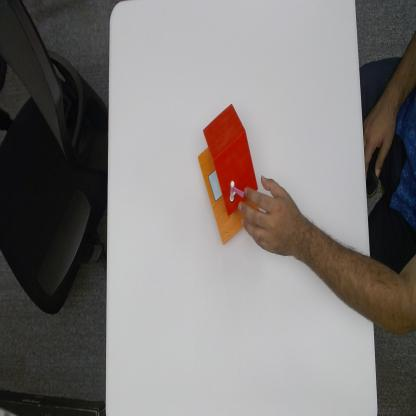Arm: (300, 213, 369, 328)
Hand: (240, 178, 301, 259)
House: (196, 102, 260, 250)
